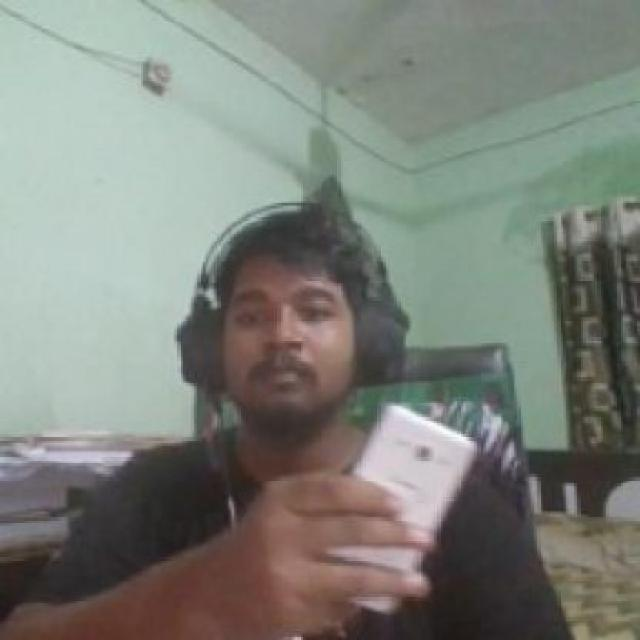Phone: (330, 401, 480, 616)
